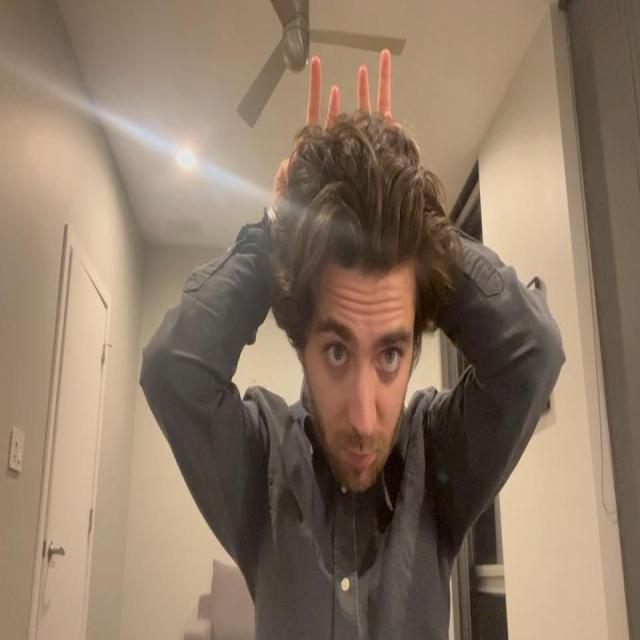face: (309, 270, 417, 493)
